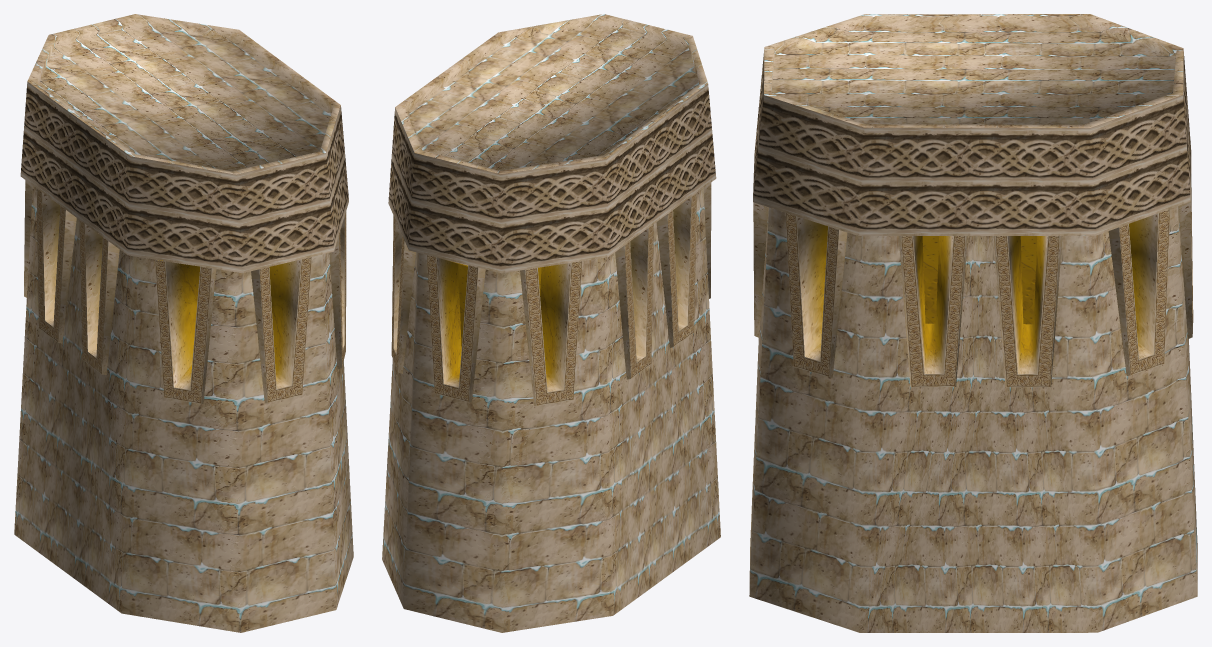
File: fortress03_05.obj
The picture shows the model from 3 angles, left to right: view 1: azimuth 30°, elevation 25°; view 2: azimuth 150°, elevation 25°; view 3: azimuth 270°, elevation 25°; orthographic projection. The views are drawn at different scales.
Visible parts, largest first — view 1: Geoset0, Geoset1, Geoset3, Geoset2; view 2: Geoset0, Geoset1, Geoset3, Geoset2, Geoset4; view 3: Geoset0, Geoset1, Geoset3, Geoset2, Geoset4.
Boxes of the visible parts, x1=… form: Geoset0: x1=14, y1=14, x2=353, y2=632; Geoset1: x1=20, y1=82, x2=348, y2=273; Geoset3: x1=24, y1=180, x2=344, y2=403; Geoset2: x1=36, y1=188, x2=346, y2=403; Geoset0: x1=382, y1=14, x2=720, y2=632; Geoset1: x1=388, y1=84, x2=716, y2=273; Geoset3: x1=393, y1=182, x2=711, y2=405; Geoset2: x1=391, y1=193, x2=696, y2=405; Geoset4: x1=458, y1=264, x2=541, y2=346; Geoset0: x1=749, y1=14, x2=1197, y2=632; Geoset1: x1=753, y1=50, x2=1191, y2=235; Geoset3: x1=753, y1=174, x2=1192, y2=387; Geoset2: x1=785, y1=165, x2=1193, y2=387; Geoset4: x1=922, y1=236, x2=1037, y2=324.
Bounding box in the file's own units: 18.45 × 34.42 × 27.98.
4 materials, 4 textured.
